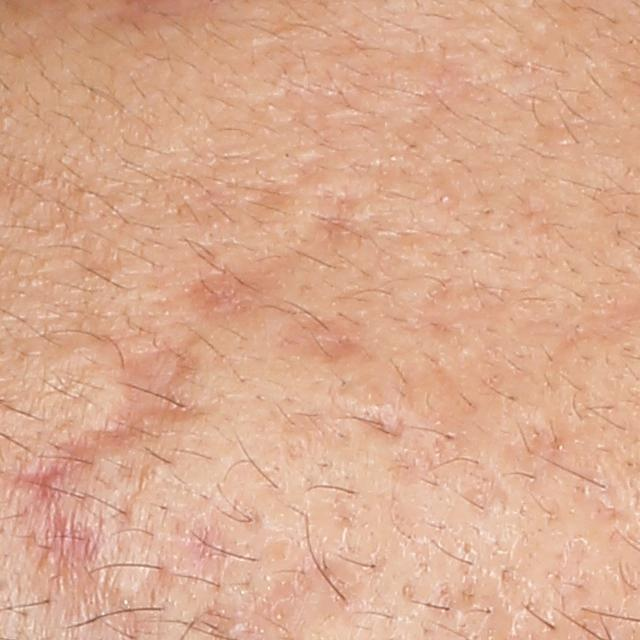atrophic_scar: (179, 257, 283, 329), (268, 554, 369, 613), (267, 307, 372, 360), (349, 397, 408, 453), (175, 520, 231, 578), (185, 599, 244, 639)
